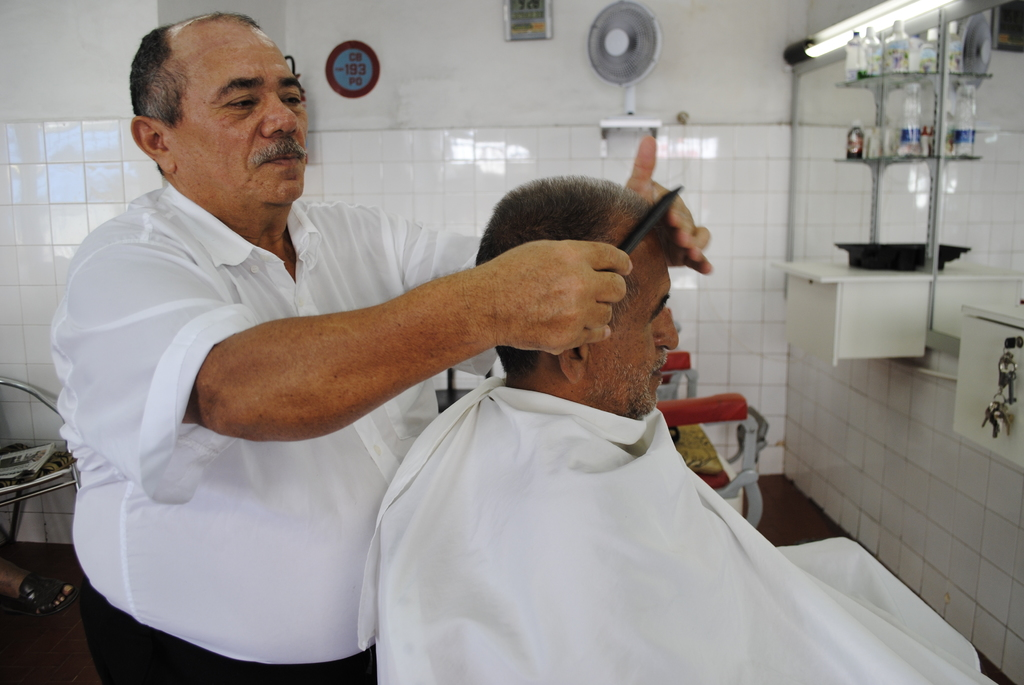Person: (49, 9, 712, 684), (352, 174, 997, 685)
